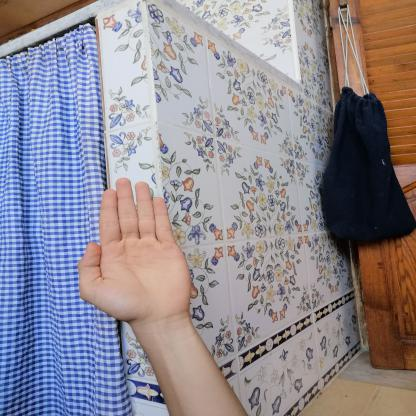SEEN: (67, 172, 199, 330)
